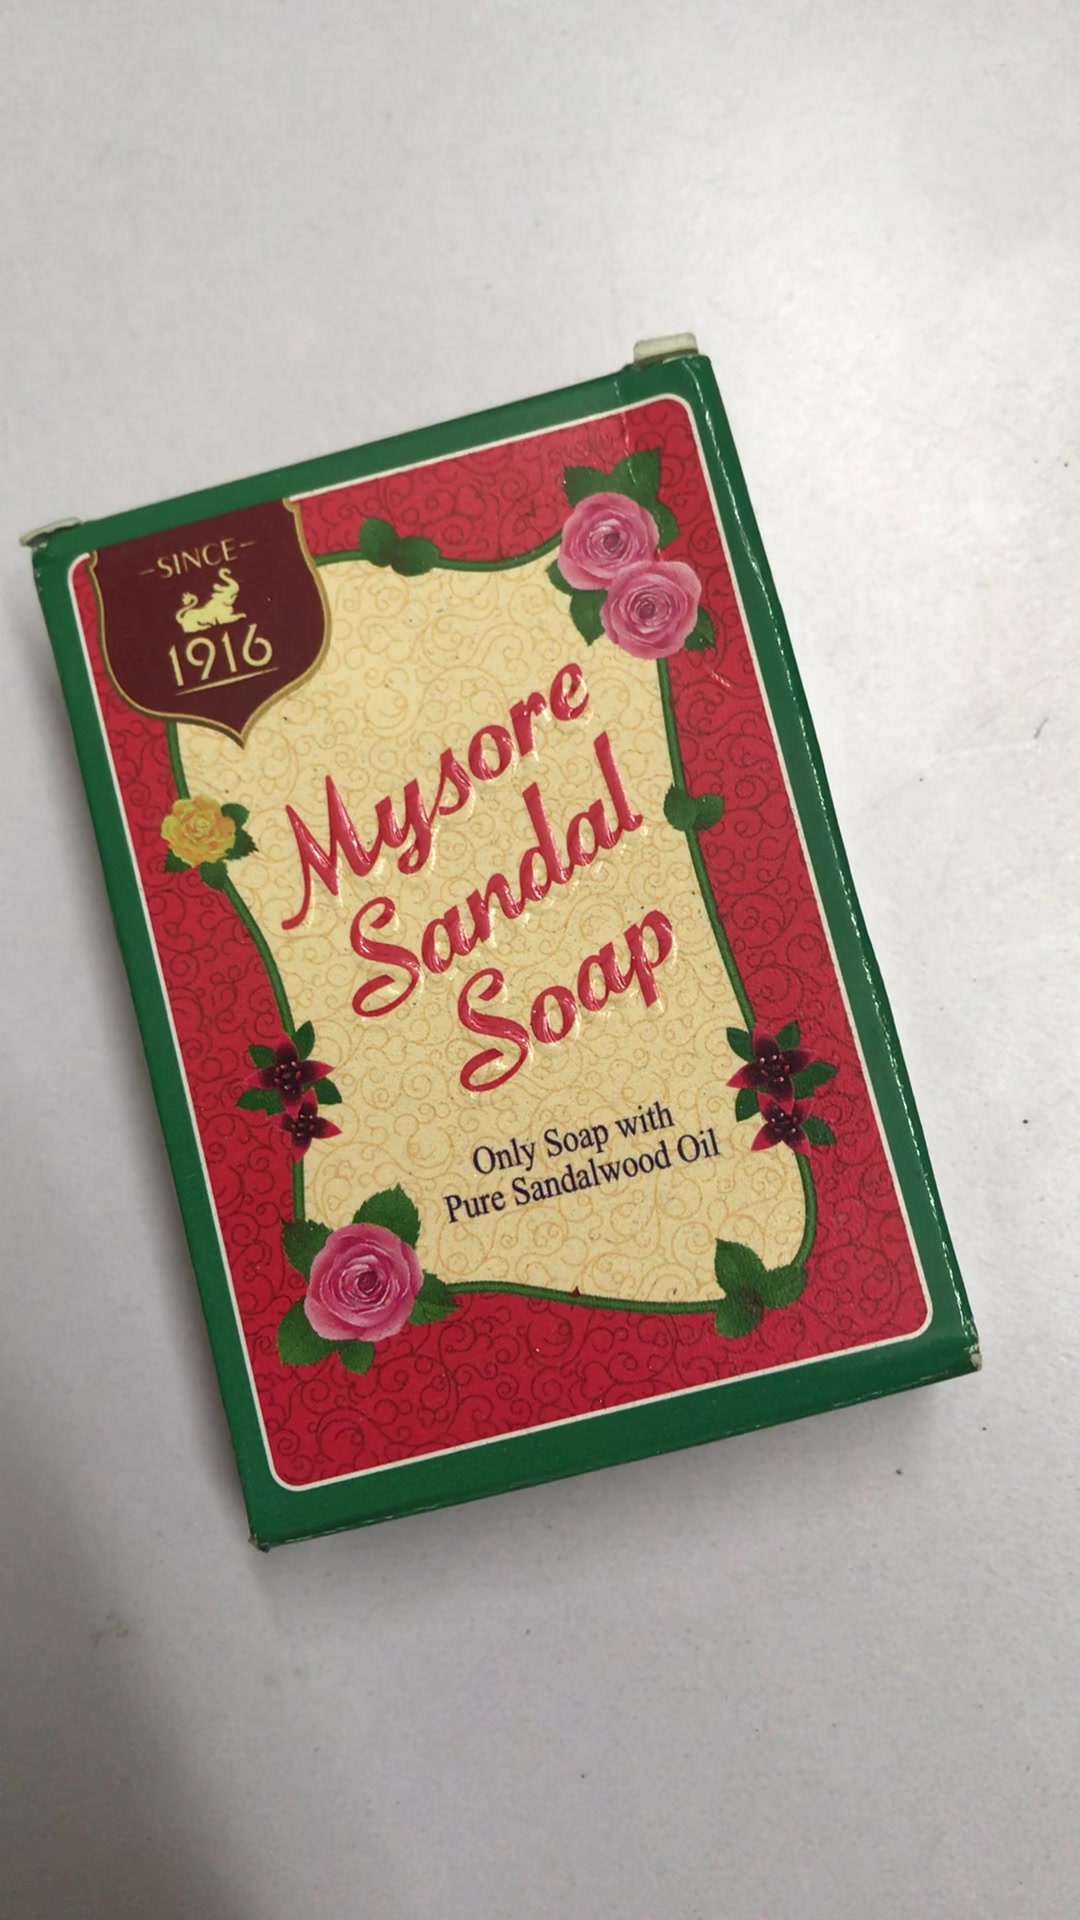mysore sandal soap: (26, 342, 978, 1545)
